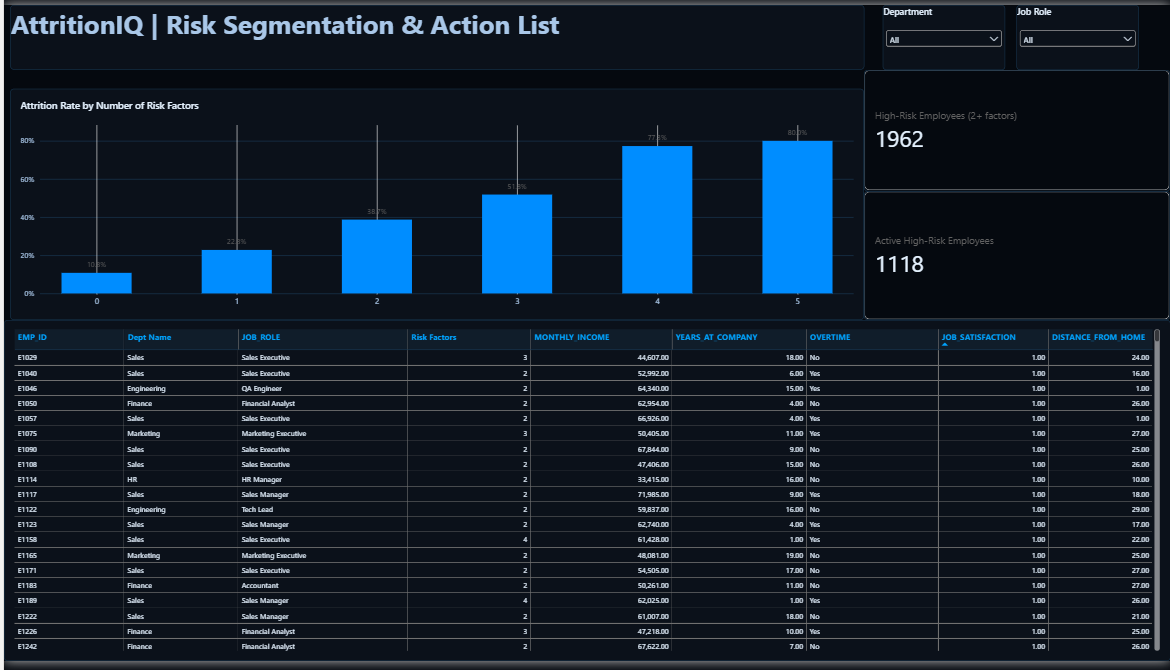

This screenshot's page, from the dashboard's own definition file:
{"tool":"powerbi","page":{"name":"Risk Segmentation","canvas":[1920,1080],"ordinal":2},"visuals":[{"type":"textbox","box":[10.9,0,1406.1,106.8],"z":0},{"type":"clusteredColumnChart","title":"Attrition Rate by Number of Risk Factors","fields":{"Category":["HR_ATTRITION_FINAL.Risk Factors"],"Y":["_Measures.Attrition Rate"]},"box":[10.3,137.9,1405.8,380.8],"z":1000},{"type":"cardVisual","fields":{"Data":["_Measures.High-Risk Employees (2+ factors)"]},"box":[1416.1,107,504.3,199.7],"z":2000},{"type":"cardVisual","fields":{"Data":["_Measures.Active High-Risk Employees"]},"box":[1416.1,306.7,504.3,212],"z":3000},{"type":"tableEx","fields":{"Values":["HR_ATTRITION_FINAL.EMP_ID","HR_ATTRITION_FINAL.Dept Name","HR_ATTRITION_FINAL.JOB_ROLE","HR_ATTRITION_FINAL.Risk Factors","HR_ATTRITION_FINAL.MONTHLY_INCOME","HR_ATTRITION_FINAL.YEARS_AT_COMPANY","HR_ATTRITION_FINAL.OVERTIME","HR_ATTRITION_FINAL.JOB_SATISFACTION","HR_ATTRITION_FINAL.DISTANCE_FROM_HOME"]},"box":[0,518.7,1920.4,561.9],"z":4000},{"type":"slicer","title":"Department","fields":{"Values":["HR_ATTRITION_FINAL.Dept Name"]},"box":[1416.1,0,201.7,107],"z":4001},{"type":"slicer","title":"Job Role","fields":{"Values":["HR_ATTRITION_FINAL.JOB_ROLE"]},"box":[1667.2,0,201.7,107],"z":4002},{"type":"slicer","fields":{"Values":["HR_ATTRITION_FINAL.Age Group"]},"box":[1507.4,298.6,412.6,90.5],"z":4003},{"type":"slicer","fields":{"Values":["HR_ATTRITION_FINAL.OVERTIME"]},"box":[1507.4,193.6,412.6,86.9],"z":4004},{"type":"slicer","fields":{"Values":["HR_ATTRITION_FINAL.MARITAL_STATUS"]},"box":[1507.4,389.1,412.6,85.1],"z":4005},{"type":"slicer","fields":{"Values":["HR_ATTRITION_FINAL.GENDER"]},"box":[1507.4,474.1,410.8,85.1],"z":4006},{"type":"slicer","title":"Distance from home","fields":{"Values":["HR_ATTRITION_FINAL.Distance Band"]},"box":[1507.4,586.3,410.8,114],"z":4007}]}

Visuals, with their boxes in screenshot pixels (x1, y1, x2, y2), scaled from the page's 1920x1080 canvas onto the 1170x670 screenshot:
textbox: <region>7, 0, 863, 66</region>
"Attrition Rate by Number of Risk Factors" clusteredColumnChart: <region>6, 86, 863, 322</region>
cardVisual - _Measures.High-Risk Employees (2+ factors): <region>863, 66, 1169, 190</region>
cardVisual - _Measures.Active High-Risk Employees: <region>863, 190, 1169, 322</region>
tableEx - HR_ATTRITION_FINAL.EMP_ID x HR_ATTRITION_FINAL.Dept Name: <region>0, 322, 1169, 669</region>
"Department" slicer: <region>863, 0, 986, 66</region>
"Job Role" slicer: <region>1016, 0, 1139, 66</region>
slicer - HR_ATTRITION_FINAL.Age Group: <region>919, 185, 1169, 241</region>
slicer - HR_ATTRITION_FINAL.OVERTIME: <region>919, 120, 1169, 174</region>
slicer - HR_ATTRITION_FINAL.MARITAL_STATUS: <region>919, 241, 1169, 294</region>
slicer - HR_ATTRITION_FINAL.GENDER: <region>919, 294, 1169, 347</region>
"Distance from home" slicer: <region>919, 364, 1169, 434</region>
